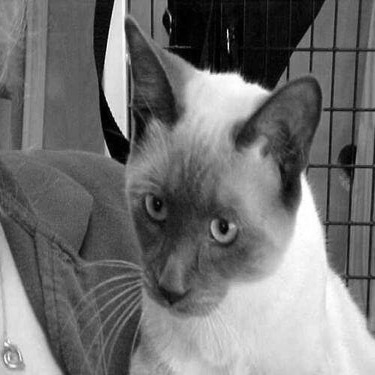cat: (116, 17, 370, 372)
